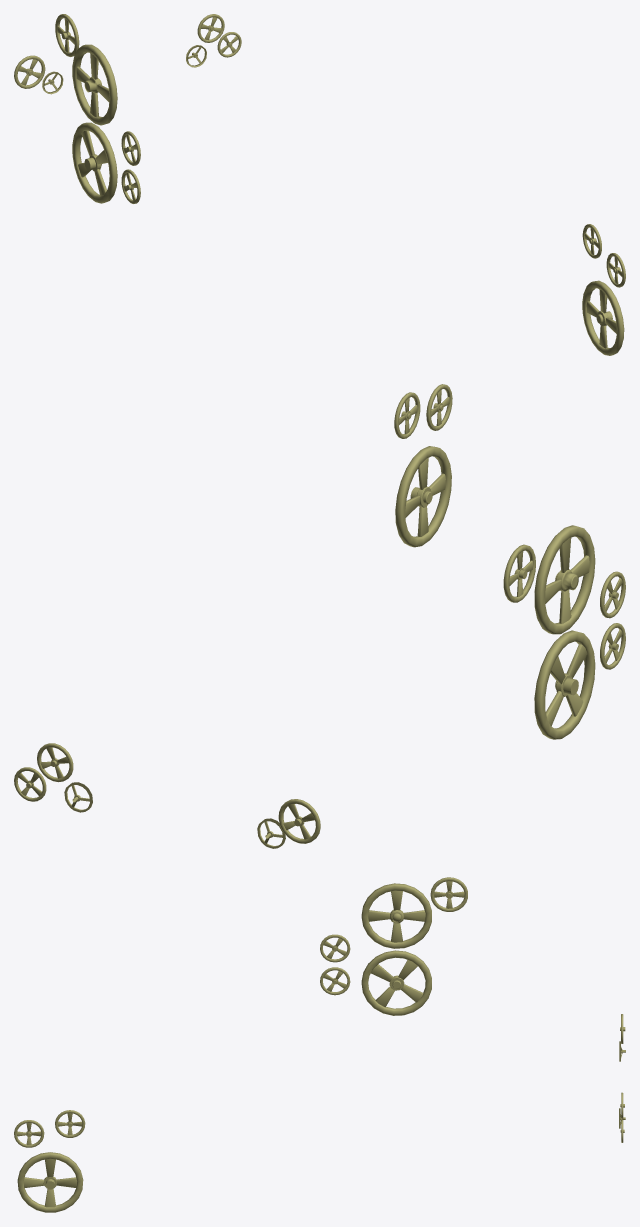
Rendered from handle_grp.fbx.
3 renders of one model, top to bottom at view 1: azimuth 30°, elevation 25°; view 2: azimuth 150°, elevation 25°; view 3: azimuth 270°, elevation 25°, orthographic. The views are drawn at different scales.
Parts seen in each view (by area): view 1: handle_1_msh, handle_4_msh, handle_12_msh, handle_5_msh, handle_6_msh; view 2: handle_1_msh, handle_4_msh, handle_12_msh, handle_5_msh, handle_6_msh, handle_8_msh, handle_13_msh, handle_11_msh, handle_2_msh, handle_3_msh, handle_10_msh; view 3: handle_4_msh, handle_1_msh, handle_12_msh, handle_5_msh, handle_2_msh, handle_3_msh, handle_13_msh, handle_11_msh.
Part boxes in pixels (x1,y1,x2,y2): handle_1_msh: (72, 44, 117, 125); handle_4_msh: (72, 122, 117, 203); handle_12_msh: (582, 280, 624, 355); handle_5_msh: (55, 14, 79, 56); handle_6_msh: (14, 55, 45, 88); handle_1_msh: (534, 525, 595, 634); handle_4_msh: (534, 630, 595, 739); handle_12_msh: (395, 446, 451, 547); handle_5_msh: (503, 544, 535, 602); handle_6_msh: (278, 799, 320, 843); handle_8_msh: (37, 743, 73, 782); handle_13_msh: (426, 384, 452, 430); handle_11_msh: (394, 392, 420, 438); handle_2_msh: (600, 571, 625, 618); handle_3_msh: (600, 623, 625, 669); handle_10_msh: (14, 767, 46, 801); handle_4_msh: (361, 950, 431, 1015); handle_1_msh: (361, 883, 431, 948); handle_12_msh: (17, 1152, 83, 1212); handle_5_msh: (430, 877, 467, 911); handle_2_msh: (320, 934, 350, 962); handle_3_msh: (320, 967, 350, 995); handle_13_msh: (14, 1120, 44, 1147); handle_11_msh: (55, 1110, 85, 1137).
Size of the model in its own units: 306 by 220 by 588.
